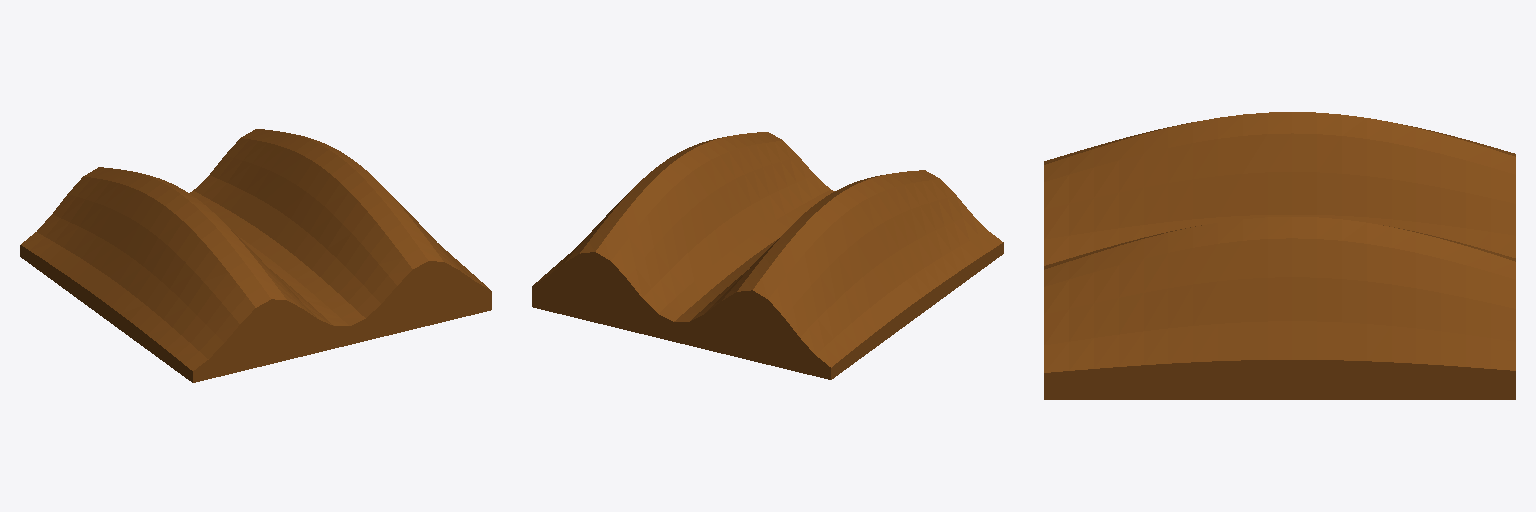
robot.urdf — valley:
<?xml version="1.0" ?>
<robot name="valley">
  <link name="valley_link">

    <inertial>
      <origin xyz="0 0 0" rpy="0 0 0"/>
      <mass value="1"/>
      <inertia
        ixx="1"
        ixy="0"
        ixz="0"
        iyy="1"
        iyz="0"
        izz="1"/>
    </inertial>

    <visual>
      <geometry>
        <mesh filename="valley.obj" scale="1 1 1"/>
      </geometry>
      <material name="brown">
        <color rgba="0.55 0.35 0.15 1"/>
      </material>
    </visual>

    <collision>
      <geometry>
        <mesh filename="valley.obj" scale="1 1 1"/>
      </geometry>
    </collision>

  </link>
</robot>

--- Render facts (derived) ---
The picture shows the robot from 3 angles, left to right: view 1: azimuth 30°, elevation 25°; view 2: azimuth 150°, elevation 25°; view 3: azimuth 270°, elevation 25°; orthographic projection.
Model valley with 1 links and 0 joints (none), rooted at valley_link, posed all joints at 0.
Links seen in each view (by area): view 1: valley_link; view 2: valley_link; view 3: valley_link.
Boxes of the visible links, <box> form: valley_link: <box>20,129,491,382</box>; valley_link: <box>532,132,1003,379</box>; valley_link: <box>1044,112,1515,399</box>.
Size in the robot's own frame: 9.5 by 9.5 by 3.15 metres.
Meshes: 1 distinct files referenced, 1 mesh visuals loaded (1 OBJ).
